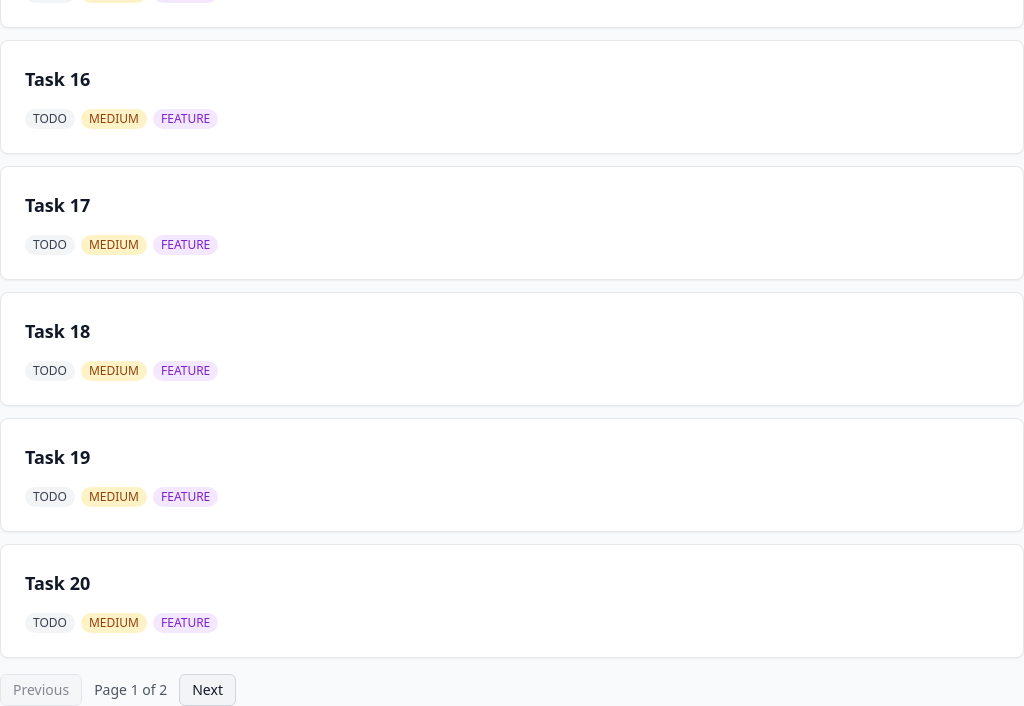
Test: TasksPage pagination and loading/error states (behavior) › pages through results with page info (behavior)
The width and height of the screenshot is (1024, 706).
(page scrolled)
Expected: the text "Page 1 of 2" is shown, 94,680 -> 167,700
Click the button "Next" at (208, 690), box 179,674 -> 236,705
(page scrolled)
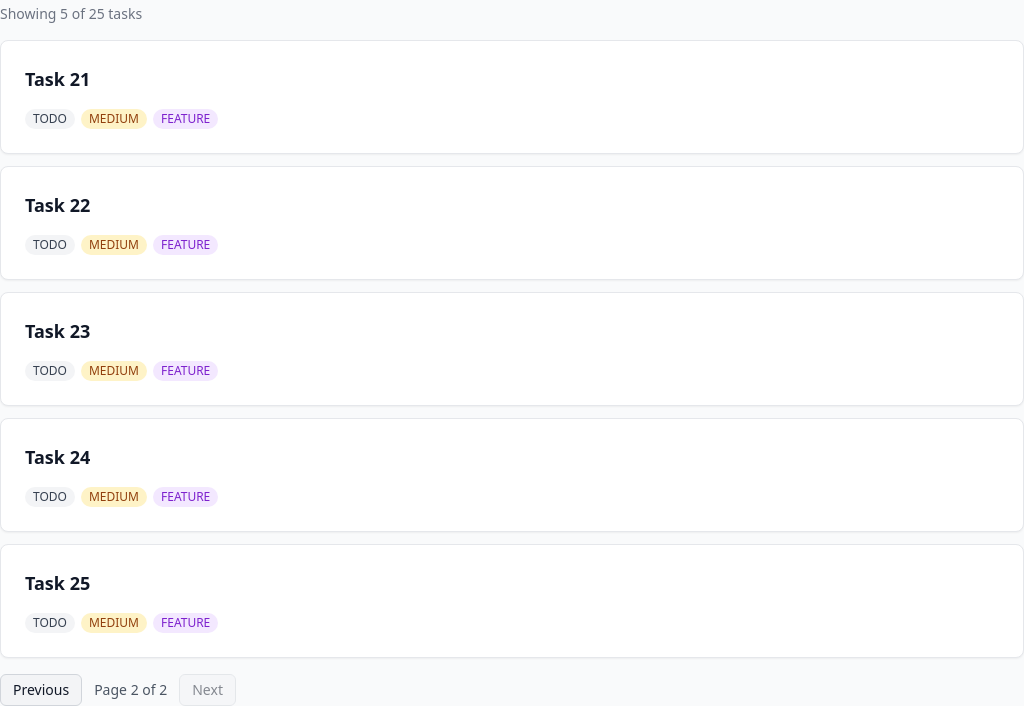
Expected: the text "Page 2 of 2" is shown, 94,680 -> 167,700
Expected: the link "Task 21" is shown, 25,67 -> 90,91
Click the button "Previous" at (41, 690), box 0,674 -> 82,705
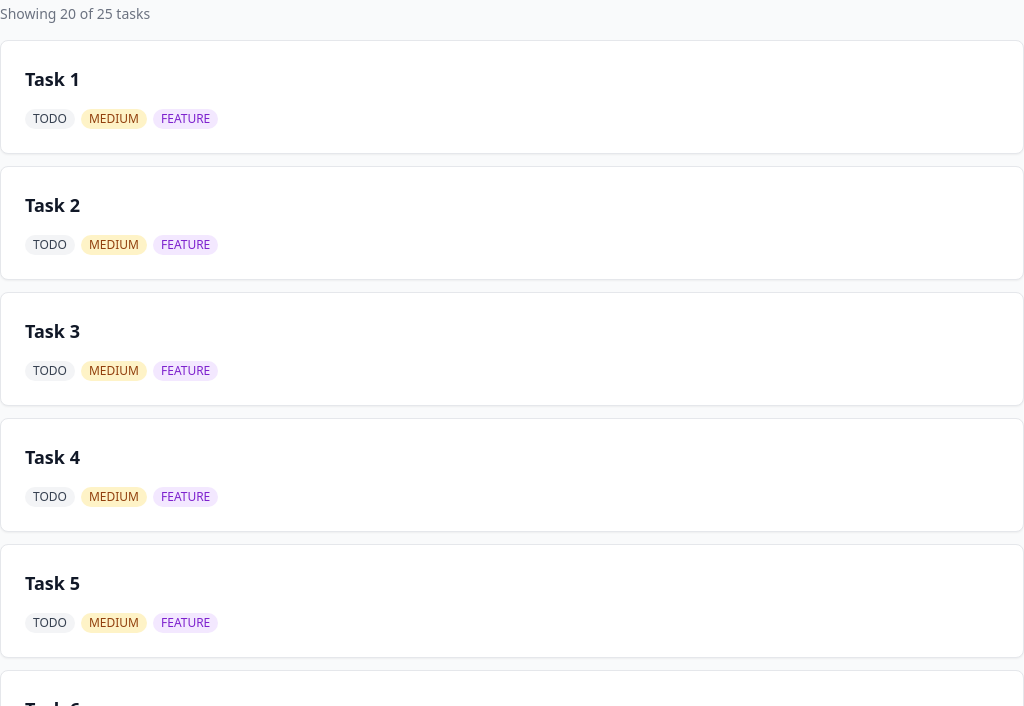
Expected: the link "Task 1" is shown, 25,67 -> 80,91
